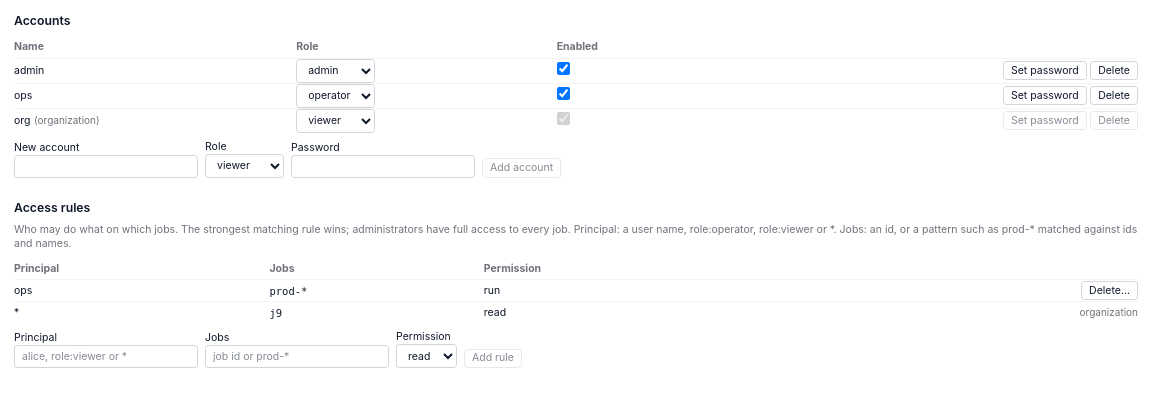
Scenario: access panel › adds accounts and changes roles; organization accounts are read-only
Expected: the text "ops" below "Accounts" is shown, [14,88,32,102]
Expected: the dropdown named "Role of org" is disabled, [296,108,375,132]
Select "viewer" in the dropdown named "Role of ops" at (336, 96), box [296,84,375,108]
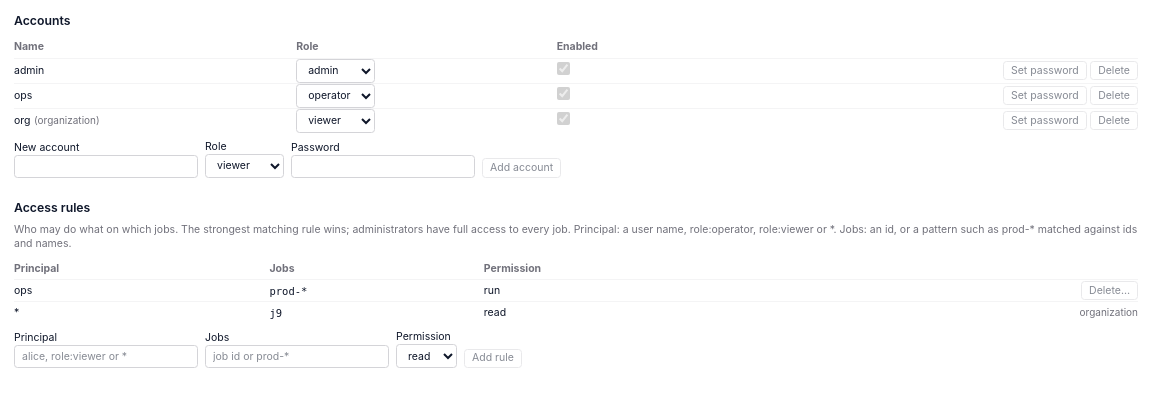
Type "val" into the field named "New account name" at (106, 166), box [14,154,198,178]
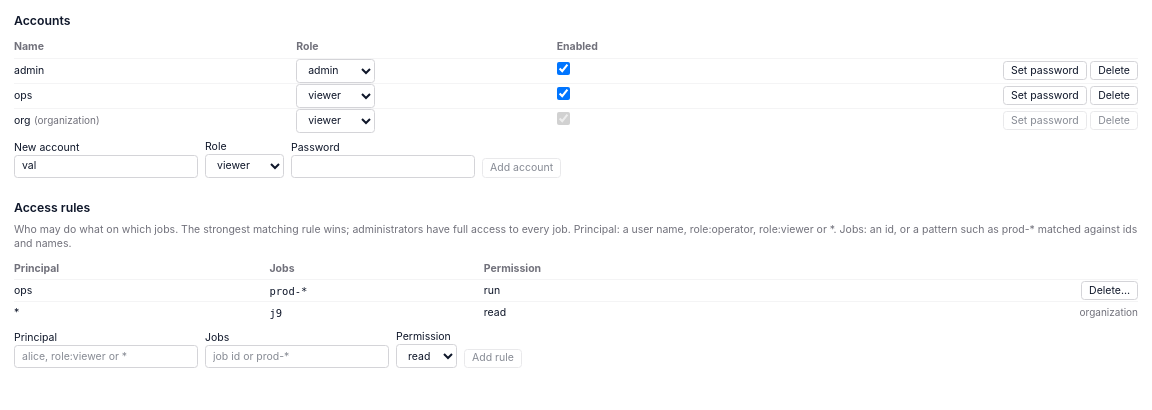
Select "operator" in the dropdown named "New account role" at (244, 166), box [205,154,284,178]
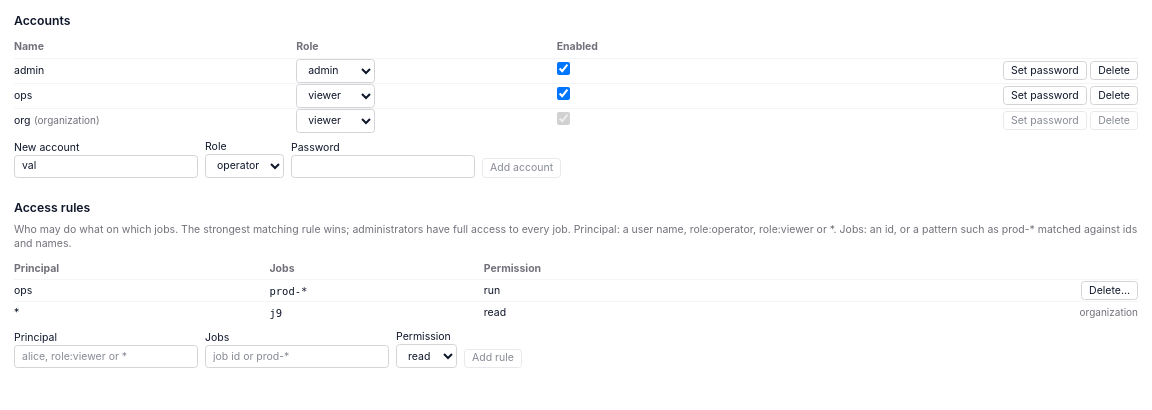
Type "short" into the password field named "New account password" at (383, 166), box [291,154,475,178]
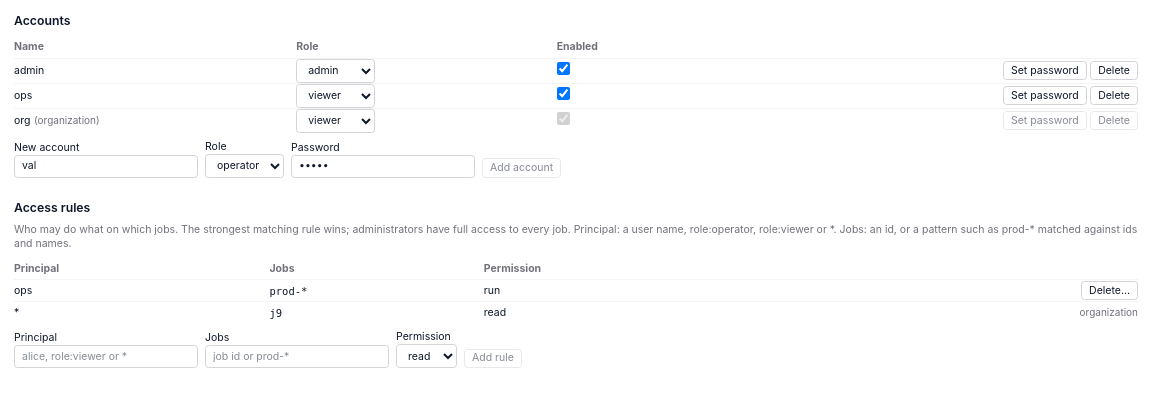
Expected: the button "Add account" is disabled, [482,158,561,178]
Type "long-enough-pw" into the password field named "New account password" at (383, 166), box [291,154,475,178]
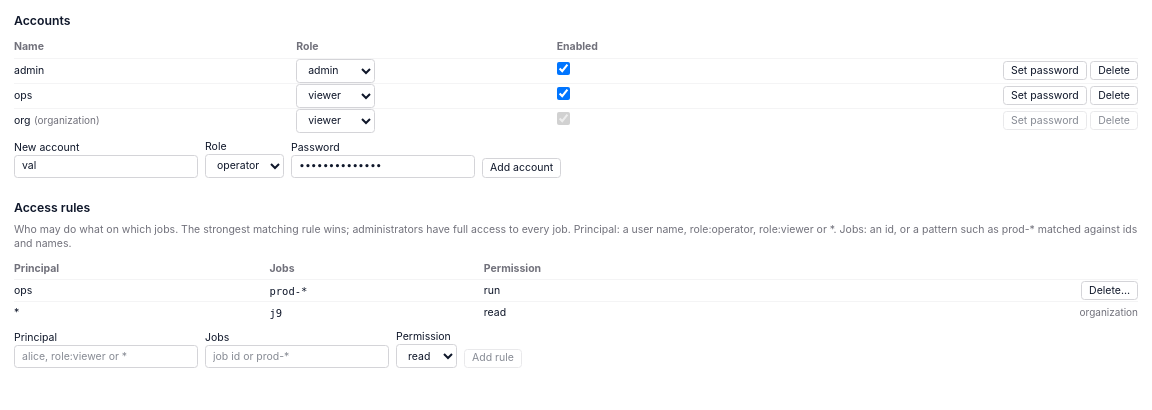
Click the button "Add account" at (522, 168), box [482,158,561,178]
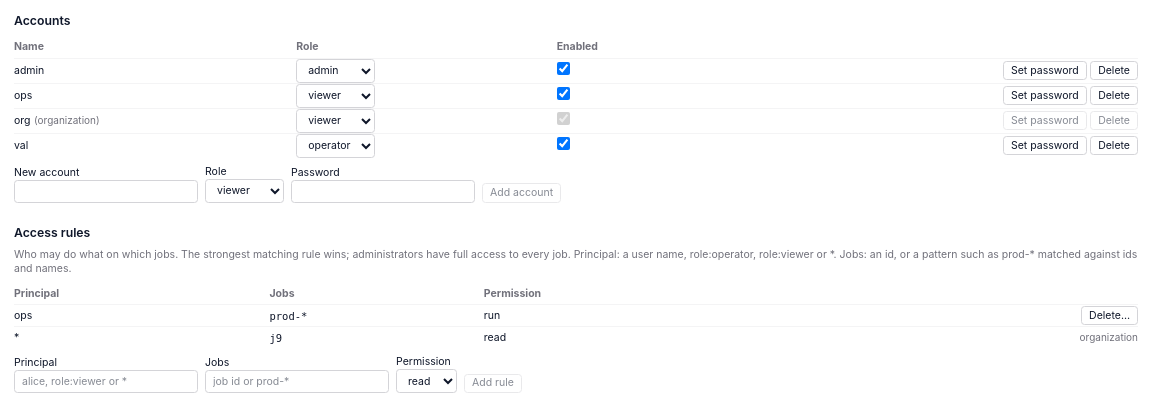
Expected: the text "val" is shown, [14,133,296,158]
